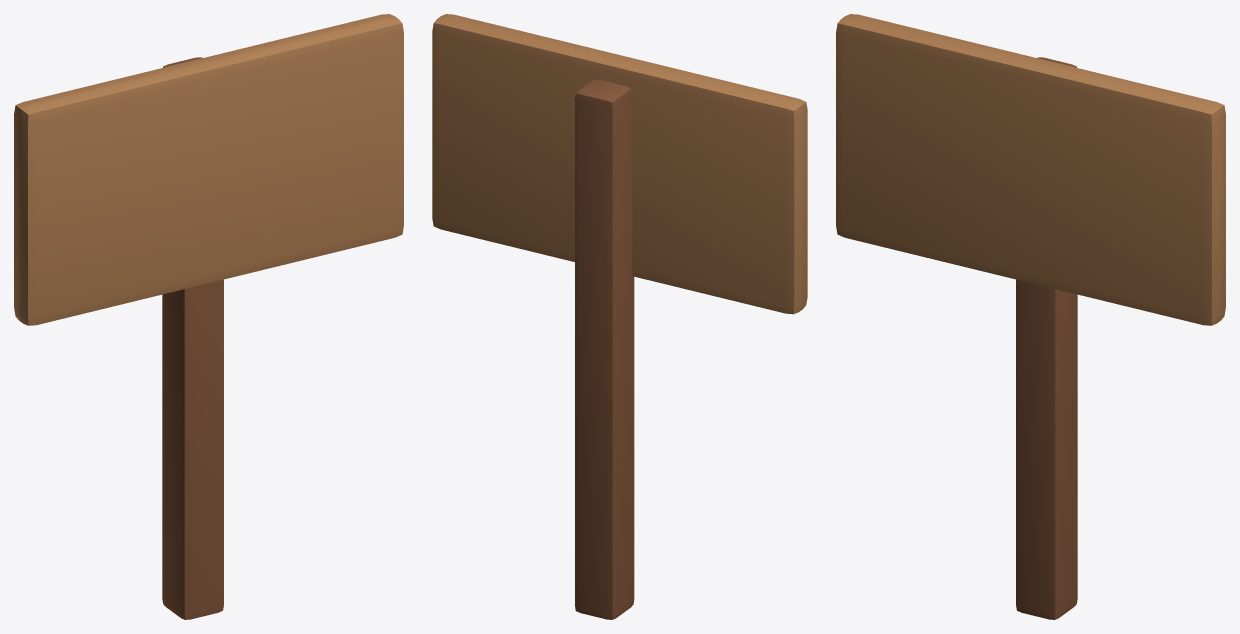
Rendered from sign.glb.
3 renders of one model, left to right at view 1: azimuth 30°, elevation 25°; view 2: azimuth 150°, elevation 25°; view 3: azimuth 330°, elevation 25°, orthographic. The views are drawn at different scales.
Parts seen in each view (by area): view 1: sign; view 2: sign; view 3: sign.
Part boxes in pixels (x1,y1,x2,y2): sign: [14, 14, 403, 619]; sign: [432, 14, 807, 619]; sign: [836, 14, 1225, 619].
Bounding box in the file's own units: 1.1 × 1.55 × 0.18.
